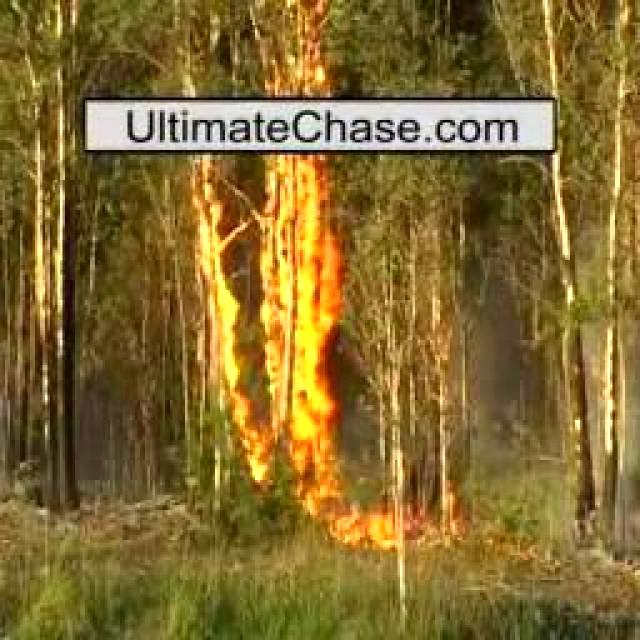fire: (186, 155, 360, 475), (296, 484, 408, 562), (260, 15, 332, 94)
